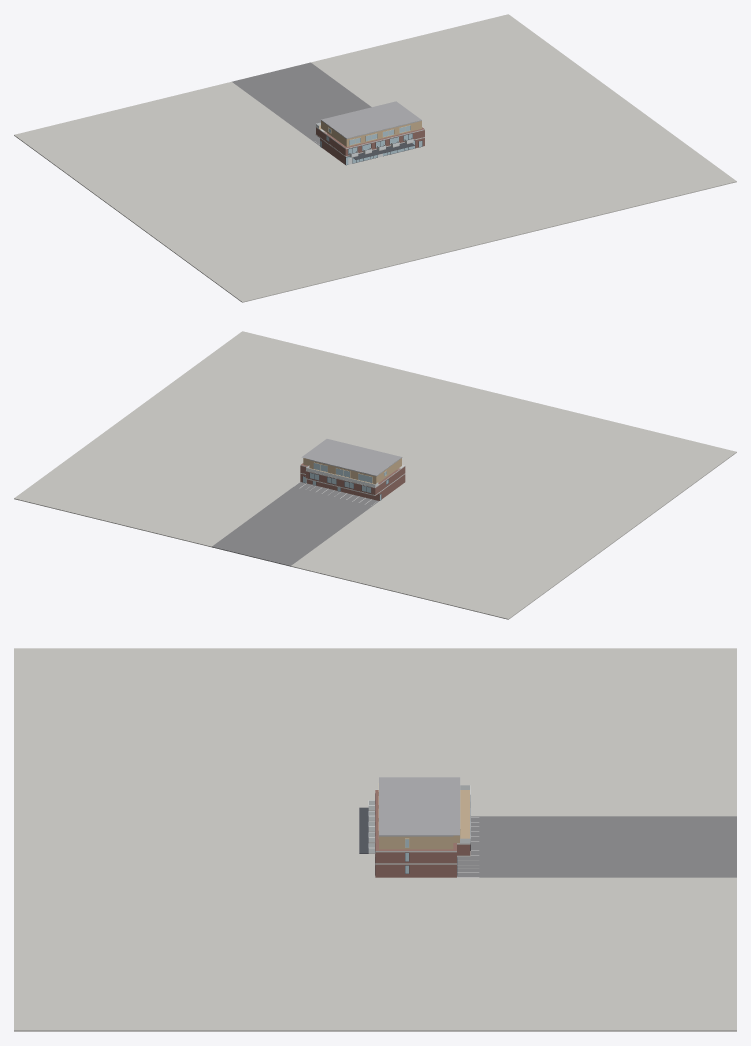
File: baufeld3_B3.glb
3 renders of one model, top to bottom at view 1: azimuth 30°, elevation 25°; view 2: azimuth 150°, elevation 25°; view 3: azimuth 270°, elevation 25°, orthographic. The views are drawn at different scales.
Visible parts, largest first — view 1: b, b.002, b.001, b.003, Dach, OG1, Staffel; view 2: b, b.002, b.001, b.003, Dach, EG; view 3: b, b.002, b.001, b.003, Dach, OG1, EG, Staffel.
Part boxes in pixels (left/top/right/bottom): b: left=128, top=98, right=736, bottom=302; b.002: left=14, top=82, right=345, bottom=218; b.001: left=311, top=14, right=622, bottom=145; b.003: left=232, top=62, right=371, bottom=145; Dach: left=321, top=101, right=421, bottom=138; OG1: left=320, top=127, right=424, bottom=155; Staffel: left=323, top=121, right=421, bottom=146; b: left=128, top=331, right=736, bottom=535; b.002: left=291, top=482, right=622, bottom=619; b.001: left=14, top=415, right=303, bottom=547; b.003: left=212, top=482, right=378, bottom=566; Dach: left=301, top=439, right=401, bottom=475; EG: left=300, top=473, right=405, bottom=500; b: left=14, top=648, right=375, bottom=1031; b.002: left=375, top=648, right=736, bottom=816; b.001: left=375, top=877, right=736, bottom=1031; b.003: left=457, top=816, right=736, bottom=877; Dach: left=379, top=777, right=459, bottom=835; OG1: left=375, top=790, right=456, bottom=863; EG: left=375, top=864, right=456, bottom=877; Staffel: left=379, top=836, right=453, bottom=849.
Bounding box in the file's own units: 200 × 10.22 × 160.
